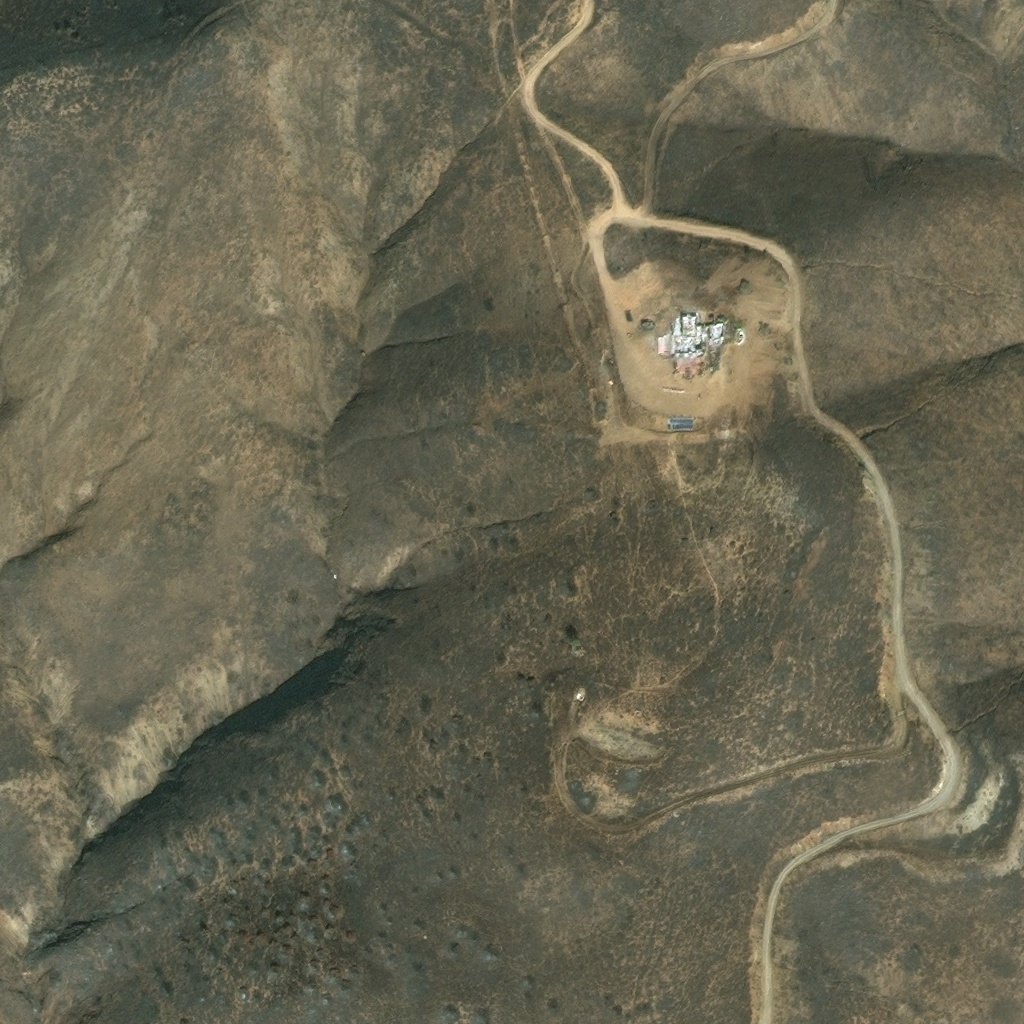0 no-damage: (667, 418, 695, 433)
3 destroyed: (673, 315, 704, 354), (707, 322, 735, 346), (657, 335, 673, 357), (713, 348, 720, 371), (737, 332, 744, 346), (725, 369, 731, 383)
